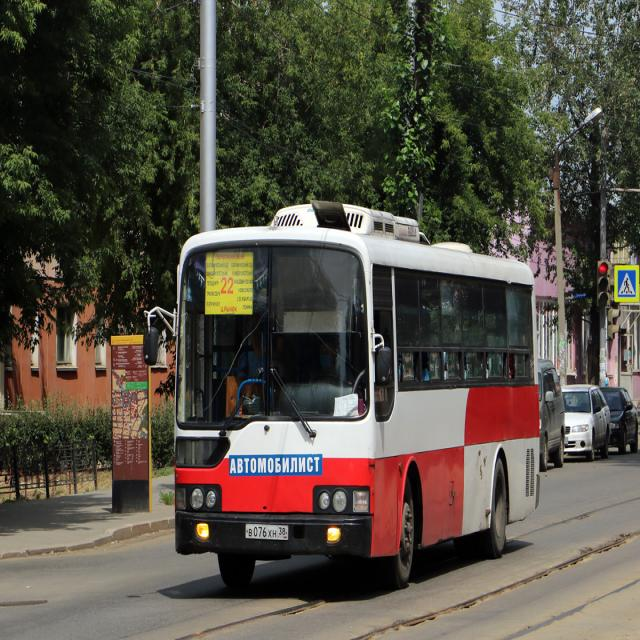number-of-bus: (221, 278, 236, 296)
